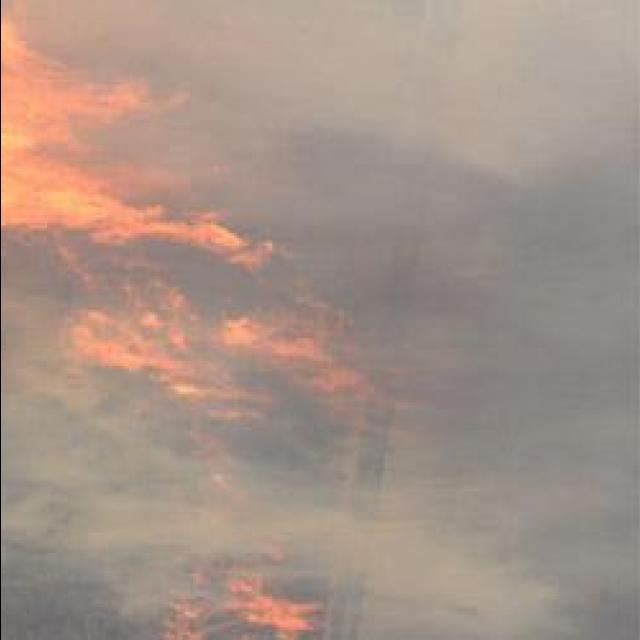fire: (0, 170, 140, 240), (0, 76, 147, 138)
smoke: (225, 2, 634, 208), (0, 469, 500, 601)
